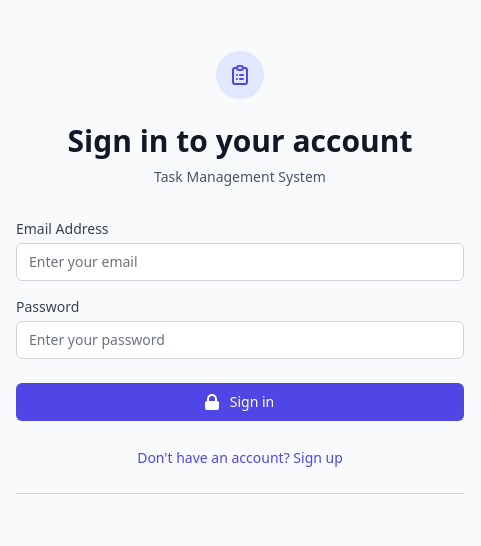
Test case: Login › handles login error
Type "test@example.com" into the field labelled "Email Address".
click(240, 262); type("test@example.com")  # box 16,243 -> 464,281
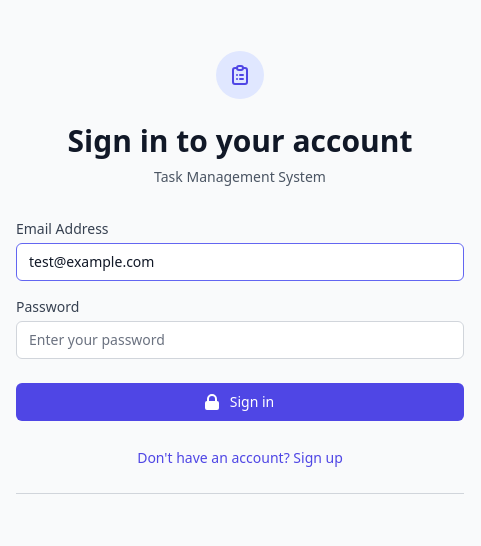
Type "wrongpassword" into the password field labelled "Password".
click(240, 340); type("wrongpassword")  # box 16,321 -> 464,359
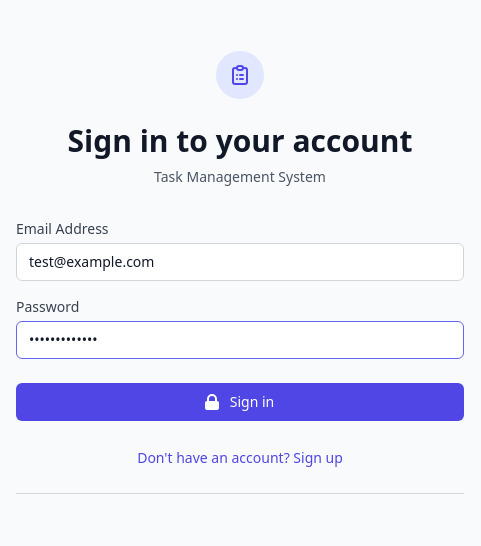
Click the button "Sign in".
click(240, 402)  # box 16,383 -> 464,421
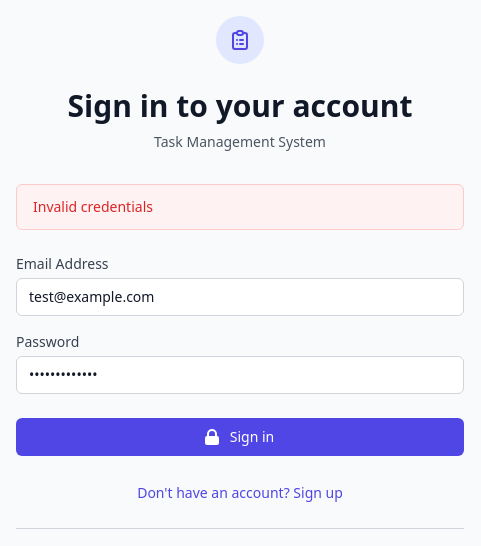
Check: the text "Invalid credentials" is shown, box 16,184 -> 464,230
